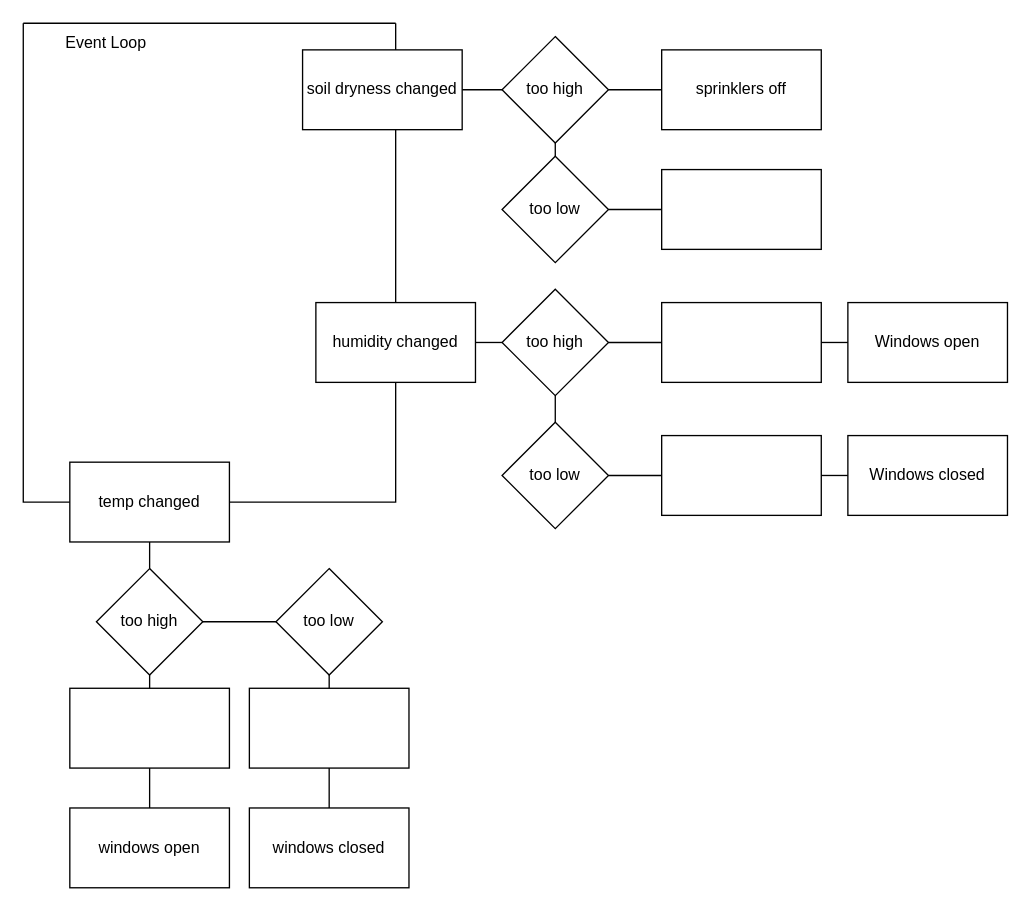
The diagram is 1031 pixels wide and 911 high, and some of its shapes have lost their labels. Each missing label, with the box of its shape:
dehumidifer off: (660, 434, 821, 515)
dehumifier on: (660, 301, 821, 382)
heaters off: (68, 687, 229, 768)
heaters on: (248, 687, 409, 768)
sprinklers on: (660, 168, 821, 249)
